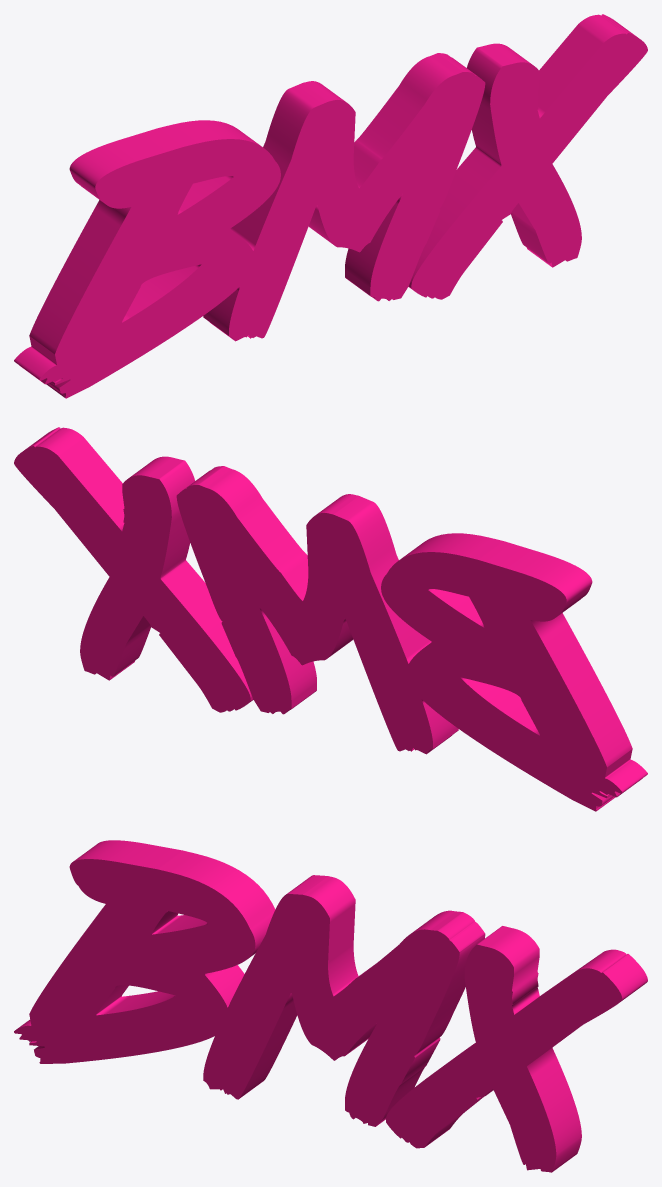
The model's file is BMX.dae.
3 renders of one model, top to bottom at view 1: azimuth 30°, elevation 25°; view 2: azimuth 150°, elevation 25°; view 3: azimuth 330°, elevation 25°, orthographic.
Visible parts, largest first — view 1: Curve, Curve_001; view 2: Curve, Curve_001; view 3: Curve, Curve_001.
Boxes of the visible parts, x1=… form: Curve: x1=14, y1=53, x2=485, y2=398; Curve_001: x1=408, y1=14, x2=647, y2=299; Curve: x1=176, y1=466, x2=647, y2=811; Curve_001: x1=14, y1=427, x2=253, y2=712; Curve: x1=14, y1=840, x2=485, y2=1126; Curve_001: x1=386, y1=926, x2=647, y2=1172.
Size of the model in its own units: 0.2743 by 0.02 by 0.1004.
